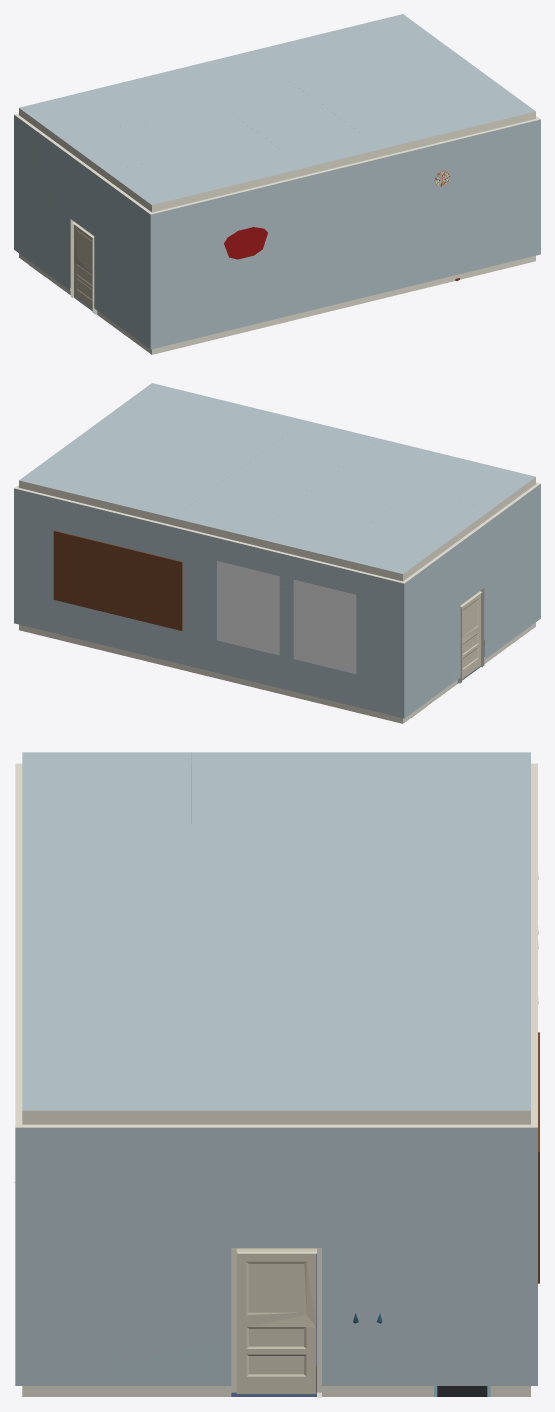
Rendered from Lobby.fbx.
3 renders of one model, top to bottom at view 1: azimuth 30°, elevation 25°; view 2: azimuth 150°, elevation 25°; view 3: azimuth 270°, elevation 25°, orthographic. The views are drawn at different scales.
Parts seen in each view (by area): view 1: _06_wall_door_, _03_wall__6_, _03_wall__5_, _03_wall__7_, _03_wall__4_, _02_wall_Corner___2_001, _02_wall_Corner___2_, _02_wall_Corner___3_001, _05_ceiling__7_, _05_ceiling__8_, _05_ceiling__4_, _05_ceiling__5_ (+12 smaller); view 2: _06_wall_door_, _02_wall_Corner___3_001, furniture_board_1, _03_wall__2_, _01_wall_window_, _01_wall_window__1_1, _03_wall__3_, _02_wall_Corner___3_, _01_wall_light_002_1, _01_wall_light_002, _02_wall_Corner___2_001, _05_ceiling__9_ (+14 smaller); view 3: _06_wall_door_, _02_wall_Corner___2_, _02_wall_Corner___3_, _05_ceiling__9_, _05_ceiling__11_, _05_ceiling__10_, _05_ceiling, _05_ceiling__1_, _05_ceiling__2_, _05_ceiling__3_, _05_ceiling__4_, _05_ceiling__5_ (+6 smaller).
Boxes of the visible parts, x1=… form: _06_wall_door_: x1=38, y1=124, x2=129, y2=338; _03_wall__6_: x1=344, y1=139, x2=422, y2=307; _03_wall__5_: x1=267, y1=158, x2=345, y2=326; _03_wall__7_: x1=420, y1=121, x2=499, y2=289; _03_wall__4_: x1=190, y1=177, x2=268, y2=345; _02_wall_Corner___2_001: x1=126, y1=189, x2=192, y2=354; _02_wall_Corner___2_: x1=497, y1=111, x2=540, y2=270; _02_wall_Corner___3_001: x1=14, y1=108, x2=40, y2=273; _05_ceiling__7_: x1=140, y1=102, x2=260, y2=153; _05_ceiling__8_: x1=96, y1=70, x2=216, y2=121; _05_ceiling__4_: x1=294, y1=65, x2=414, y2=116; _05_ceiling__5_: x1=338, y1=97, x2=458, y2=148; _06_wall_door_: x1=425, y1=493, x2=516, y2=707; _02_wall_Corner___3_001: x1=363, y1=558, x2=428, y2=723; furniture_board_1: x1=53, y1=530, x2=182, y2=630; _03_wall__2_: x1=132, y1=508, x2=210, y2=676; _01_wall_window_: x1=209, y1=527, x2=287, y2=695; _01_wall_window__1_1: x1=286, y1=546, x2=364, y2=714; _03_wall__3_: x1=55, y1=490, x2=134, y2=658; _02_wall_Corner___3_: x1=14, y1=480, x2=57, y2=639; _01_wall_light_002_1: x1=293, y1=579, x2=356, y2=674; _01_wall_light_002: x1=217, y1=561, x2=279, y2=655; _02_wall_Corner___2_001: x1=514, y1=477, x2=540, y2=642; _05_ceiling__9_: x1=173, y1=485, x2=293, y2=536; _06_wall_door_: x1=107, y1=752, x2=446, y2=1397; _02_wall_Corner___2_: x1=15, y1=1089, x2=106, y2=1396; _02_wall_Corner___3_: x1=446, y1=1089, x2=537, y2=1396; _05_ceiling__9_: x1=361, y1=895, x2=530, y2=967; _05_ceiling__11_: x1=22, y1=895, x2=191, y2=967; _05_ceiling__10_: x1=192, y1=895, x2=361, y2=967; _05_ceiling: x1=22, y1=1039, x2=191, y2=1110; _05_ceiling__1_: x1=192, y1=1039, x2=361, y2=1110; _05_ceiling__2_: x1=361, y1=1039, x2=530, y2=1110; _05_ceiling__3_: x1=361, y1=967, x2=530, y2=1038; _05_ceiling__4_: x1=192, y1=967, x2=361, y2=1038; _05_ceiling__5_: x1=22, y1=967, x2=191, y2=1038.
Size of the model in its own units: 272 by 166 by 101.
2 materials, 1 textured.
